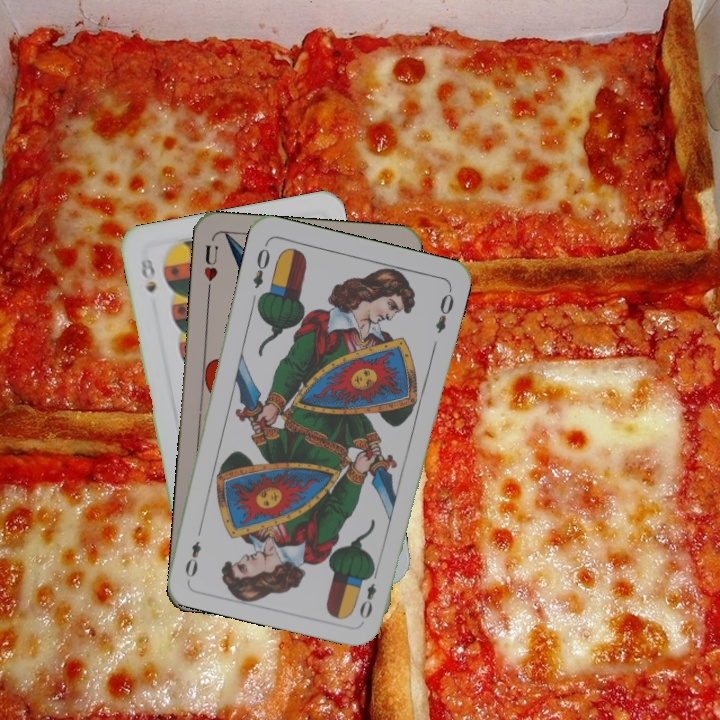EO: (355, 564, 381, 622), (248, 239, 273, 291)
HU: (200, 241, 221, 295)
S8: (137, 252, 159, 295)
